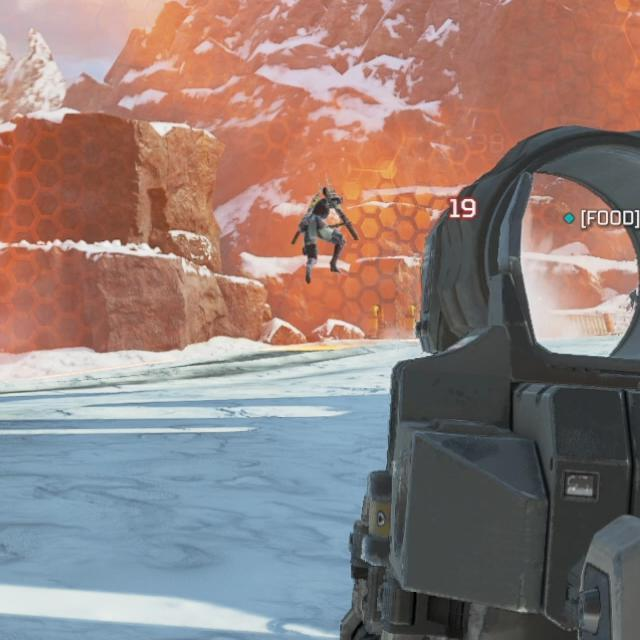avatar: (297, 185, 347, 285)
